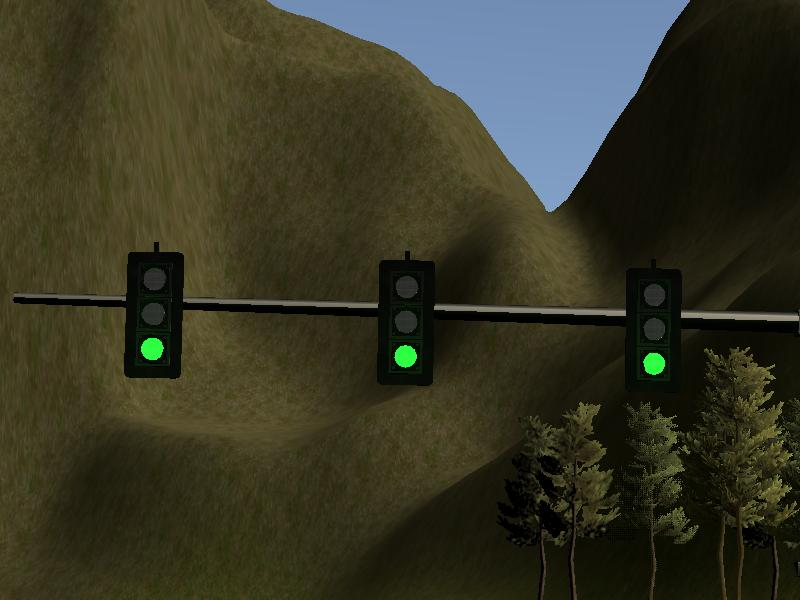not_red: (127, 252, 181, 377), (378, 257, 431, 384), (627, 268, 676, 394)
